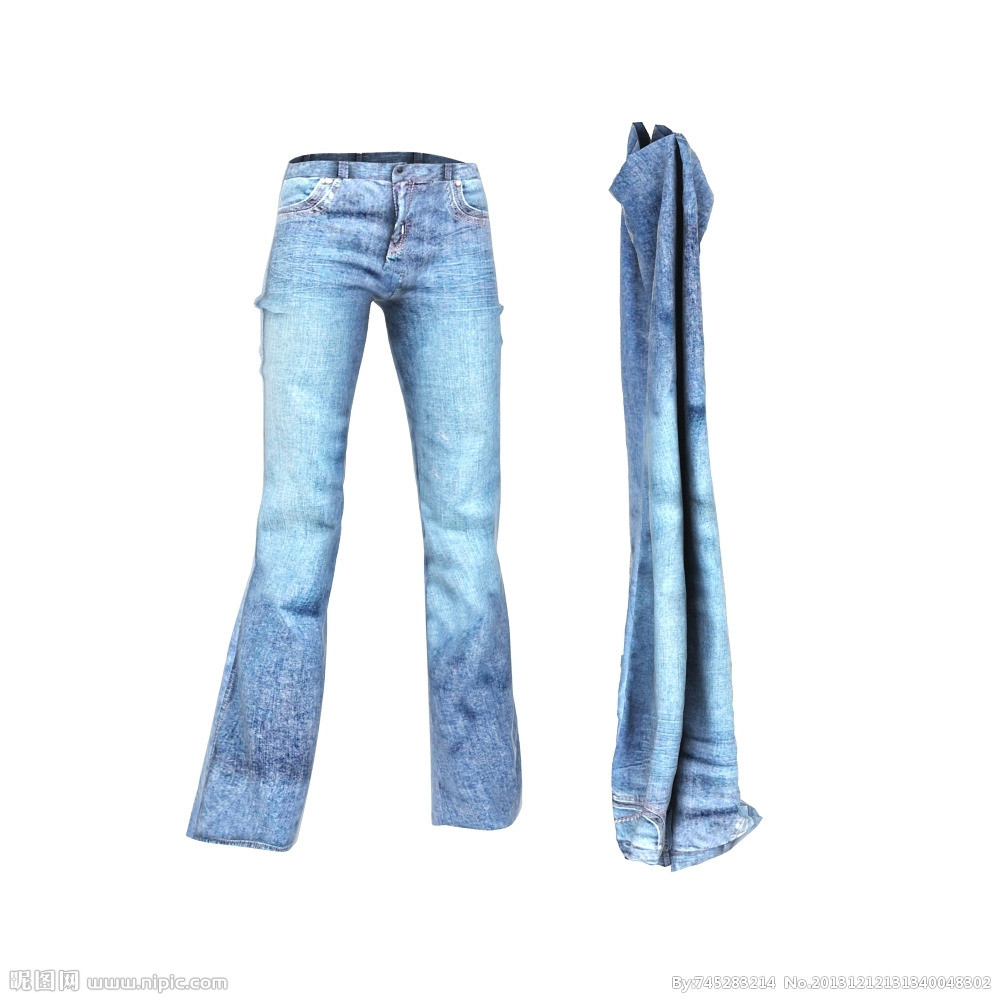flexible: (195, 152, 527, 848), (603, 120, 765, 872)
